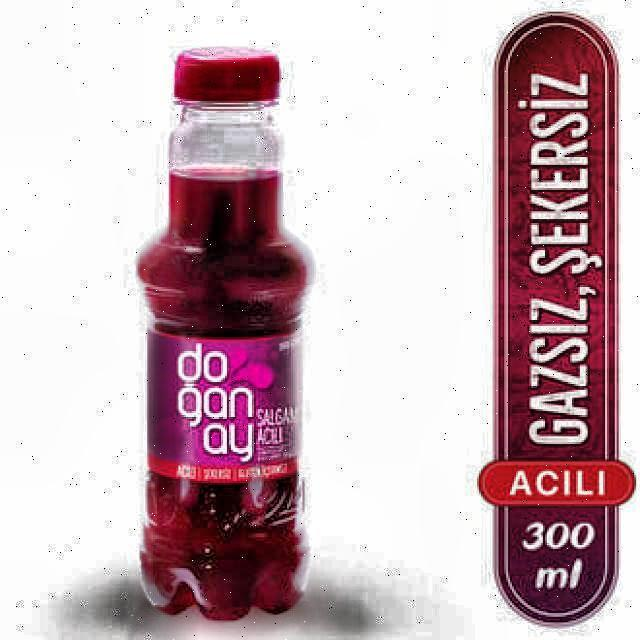plastic: (135, 45, 313, 625)
